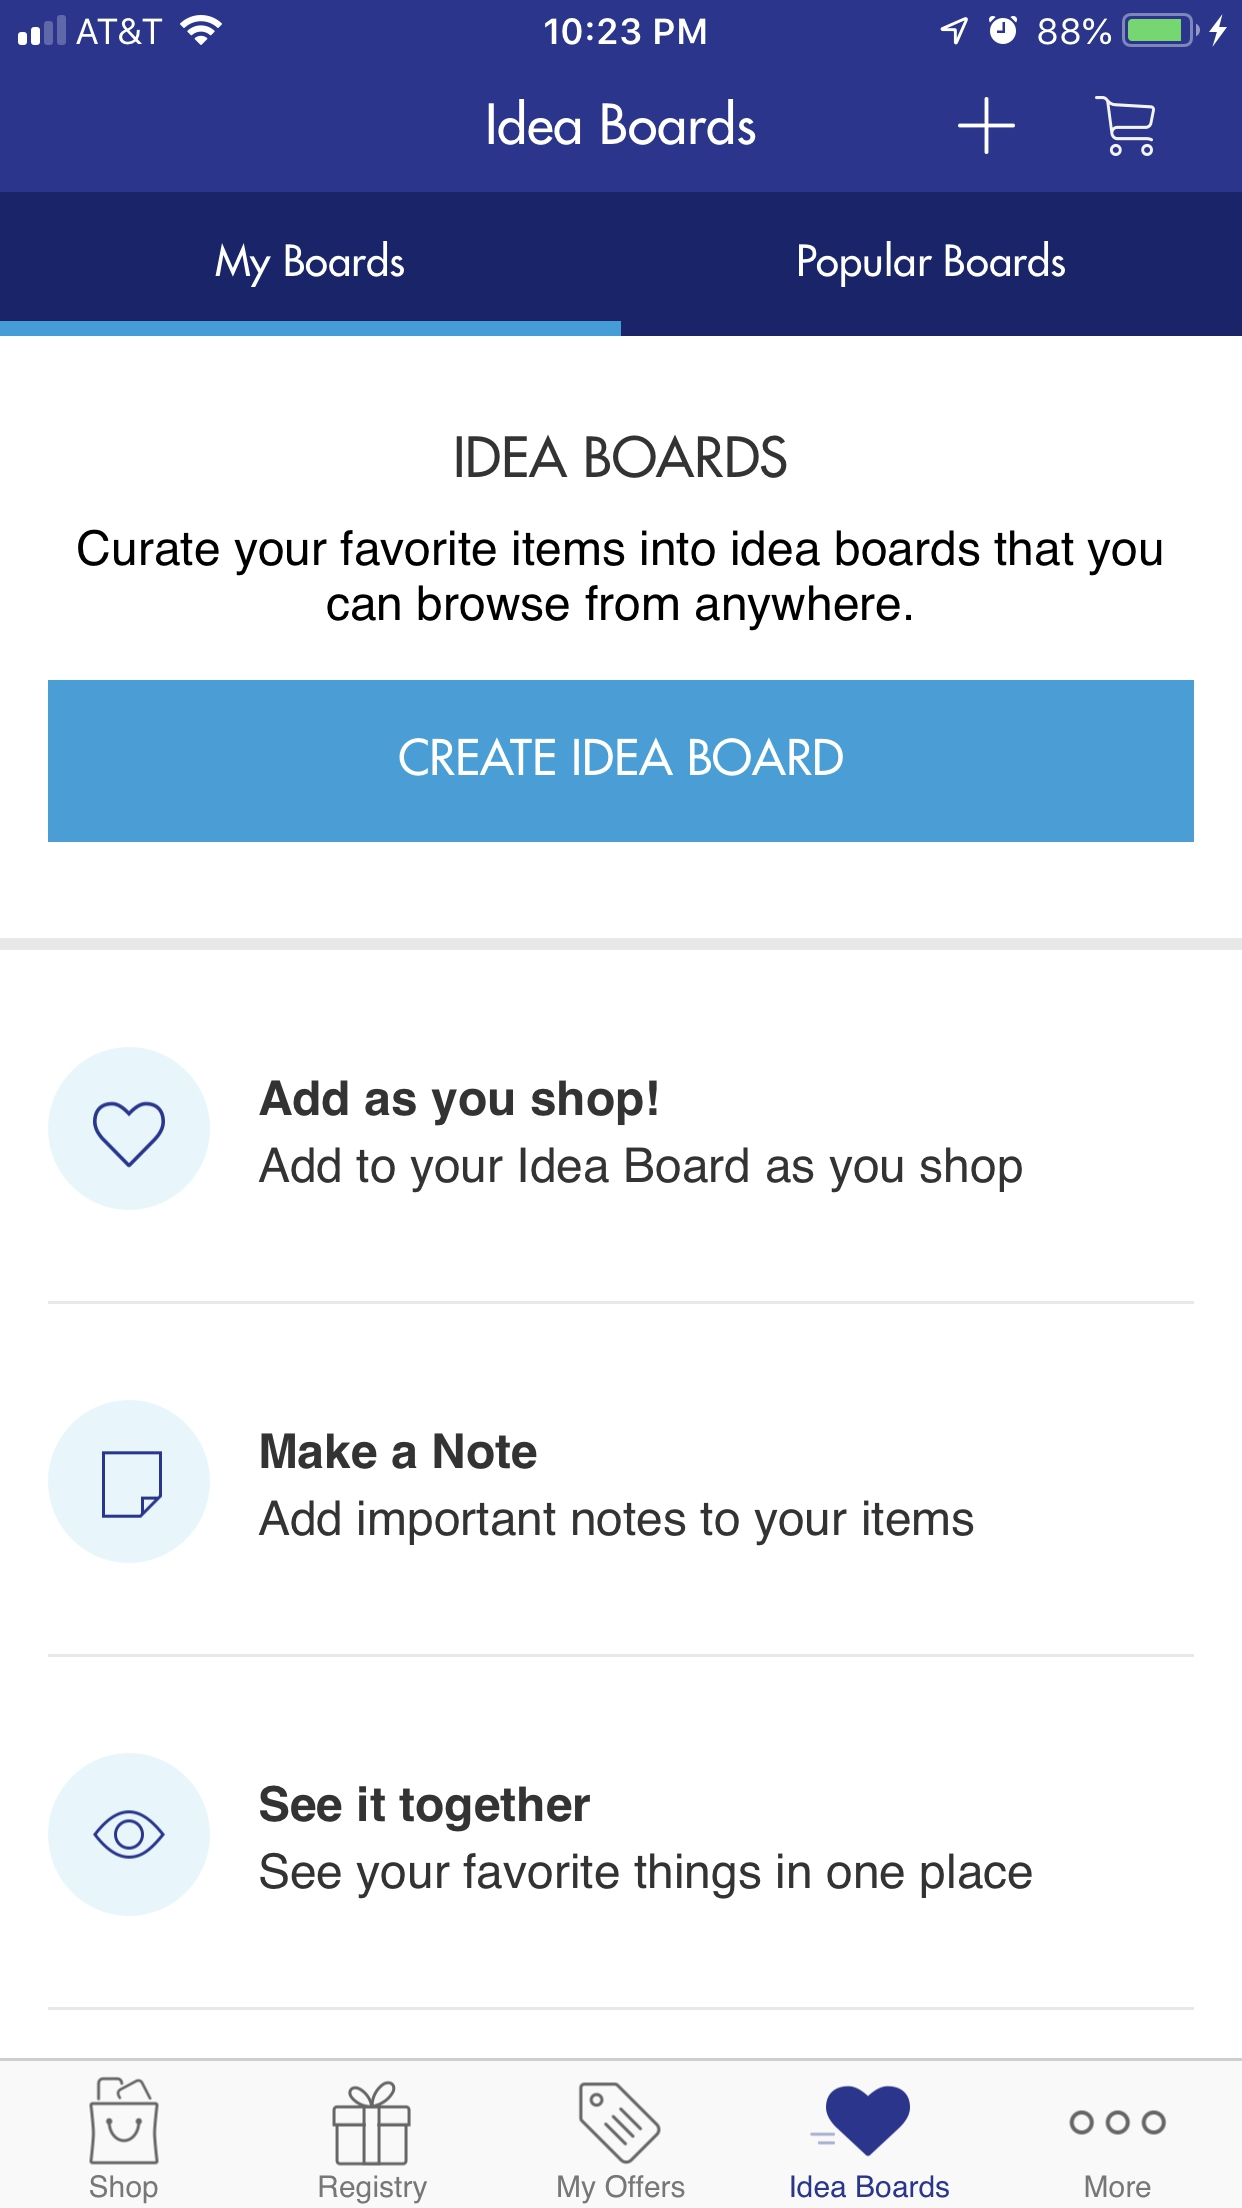Icon: (49, 1046, 212, 1212), (49, 1400, 212, 1563), (49, 1755, 211, 1917), (810, 2085, 911, 2156), (579, 2081, 663, 2166), (332, 2081, 412, 2167), (89, 2076, 161, 2166), (1093, 96, 1156, 158), (957, 97, 1016, 156), (1069, 2109, 1168, 2137)
Text: (77, 529, 1162, 632), (259, 1852, 1033, 1900), (259, 1146, 1024, 1193), (258, 1498, 974, 1545), (259, 1080, 658, 1127), (259, 1785, 591, 1833), (456, 435, 789, 481), (798, 241, 1066, 290), (488, 99, 757, 147), (261, 1432, 538, 1469), (215, 241, 406, 290), (792, 2175, 949, 2199), (558, 2175, 685, 2203), (318, 2175, 429, 2203), (91, 2175, 161, 2203), (1084, 2175, 1151, 2197)
TextButton: (49, 679, 1195, 843)
UpperTaskBar: (2, 2, 1242, 49)
